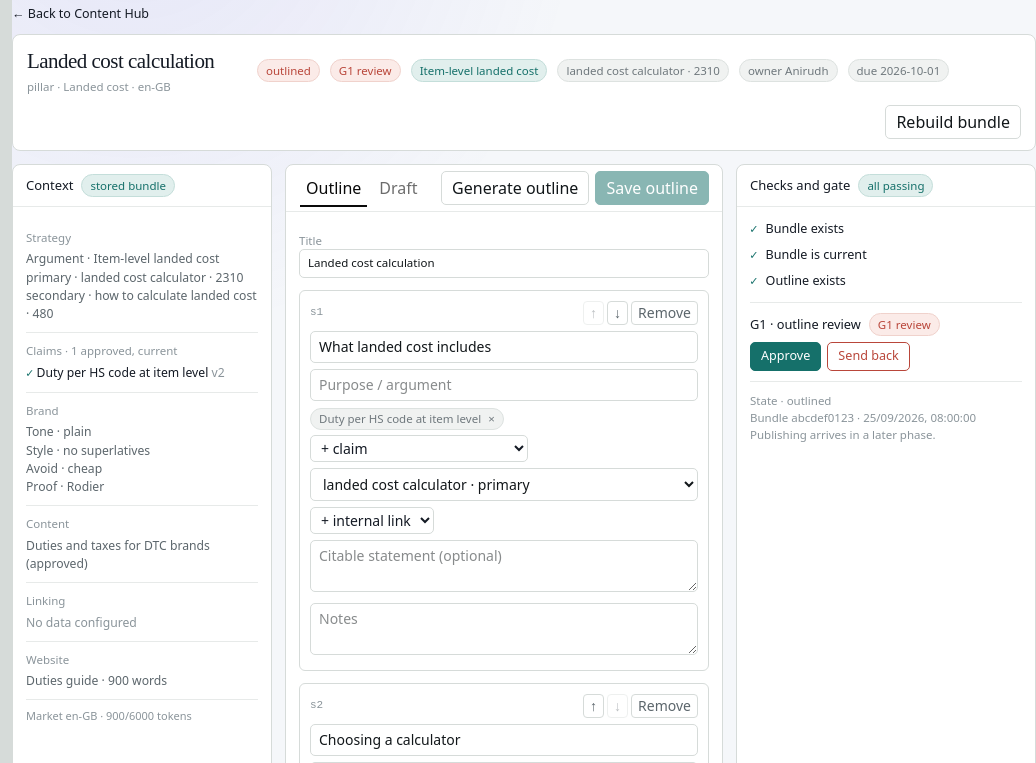
Test: V3 G1 review and draft › reports a G1 revision conflict and a failing-check refusal
This screenshot has width=1036, height=763.
expect the heading "Landed cost calculation" is shown: met, box [27,46,247,78]
Click the button "Approve": (786,356) [750,342,821,371]
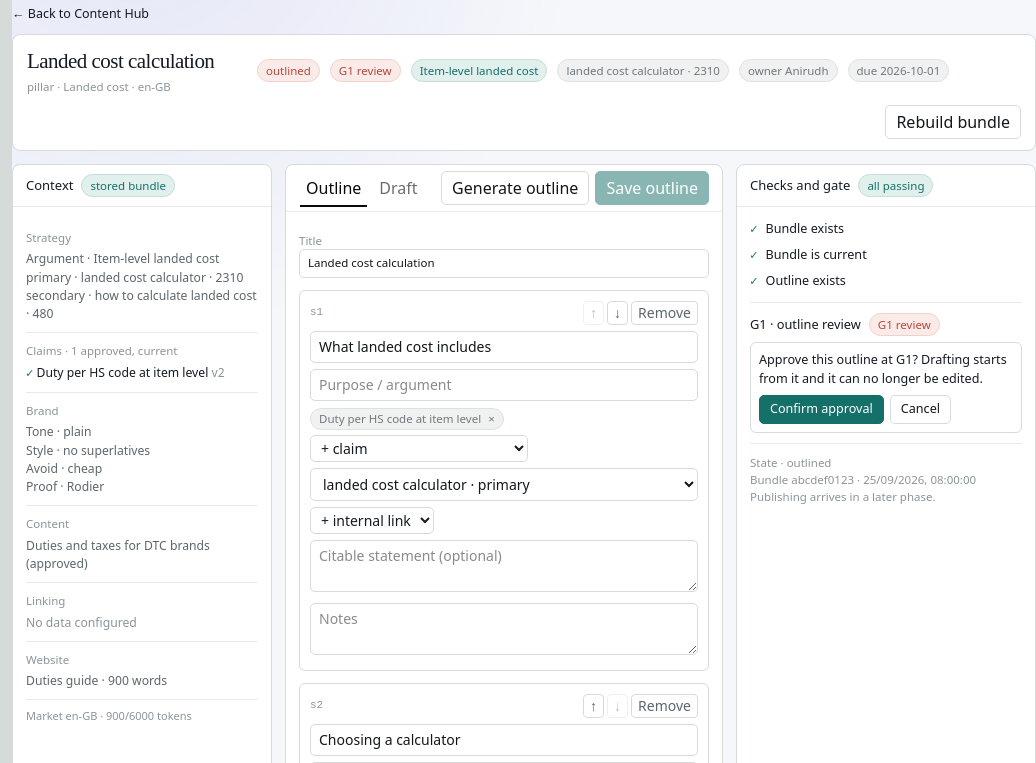
Click the button "Confirm approval": (821,409) [759,395,884,424]
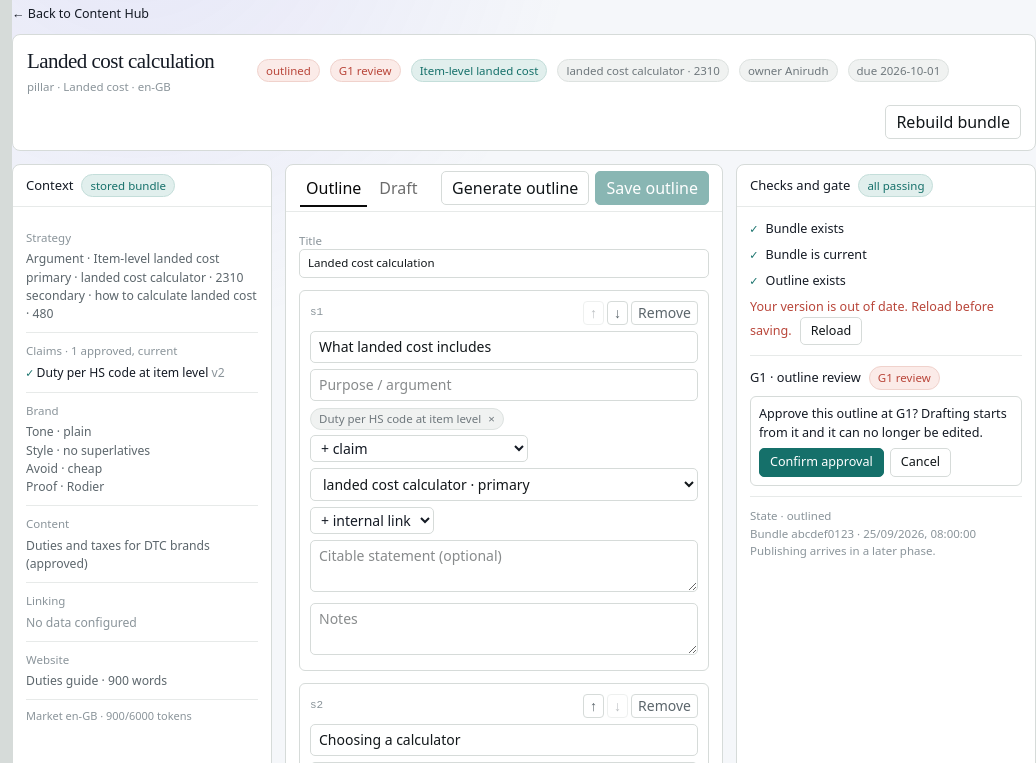
expect the message shows "Your version is out of date. Reload before saving.": met, box [750,298,994,339]
Click the button "Confirm approval": (821,463) [759,448,884,477]
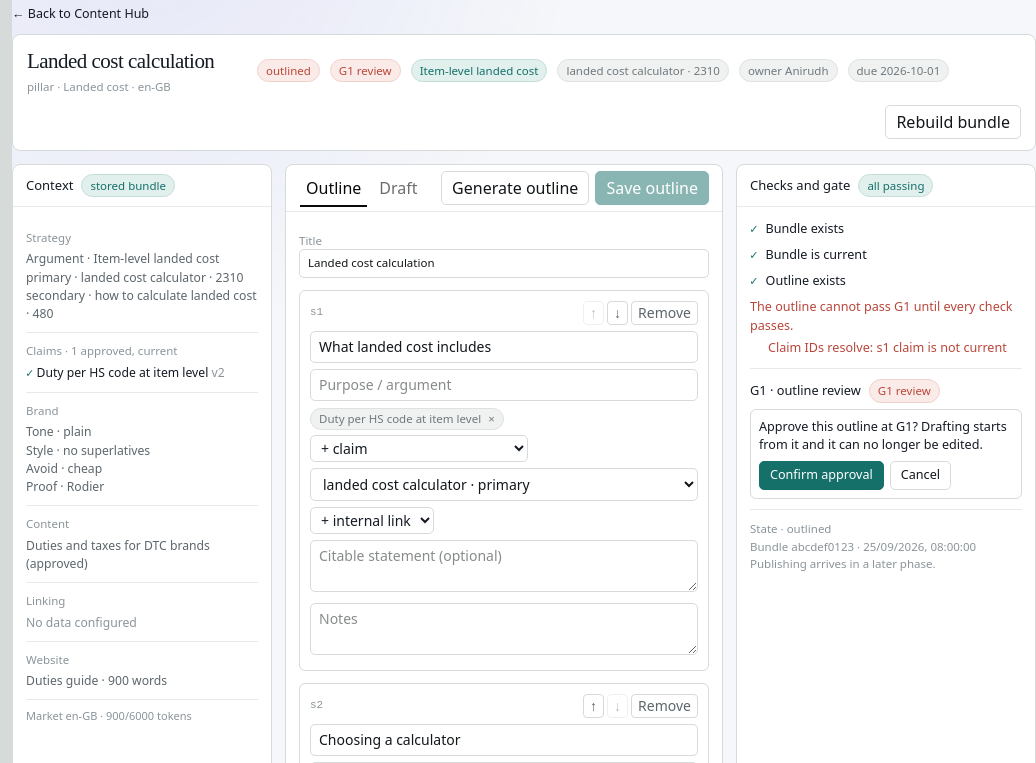
expect the text "cannot pass G1" shows "Claim IDs resolve: s1 claim is not current": met, box [768,340,1007,356]
